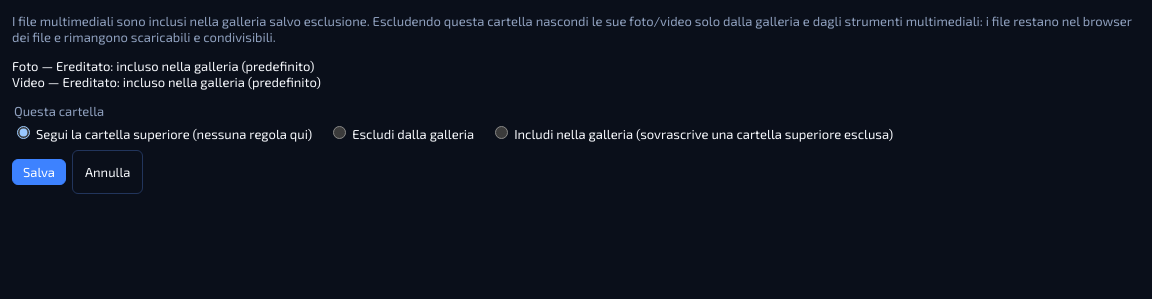
GallerySettingsPanel › refuses a rule that applies to nothing
Click the radio button labelled "Escludi dalla galleria": coordinates (340, 132) [333,126,346,139]
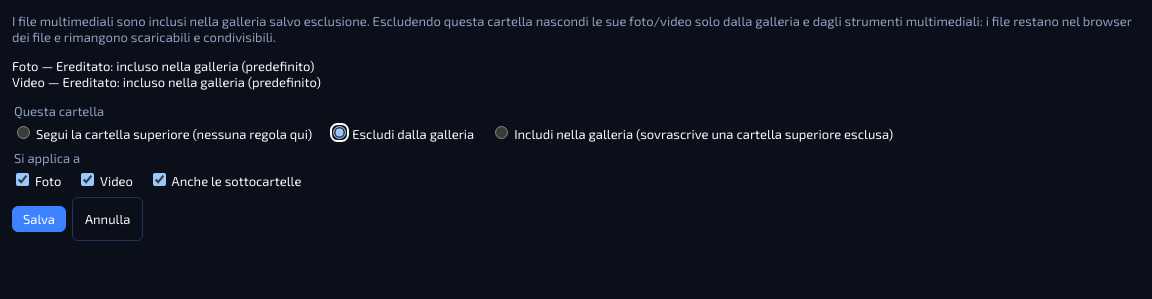
Click the checkbox labelled "Foto": coordinates (22, 180) [16,173,29,186]
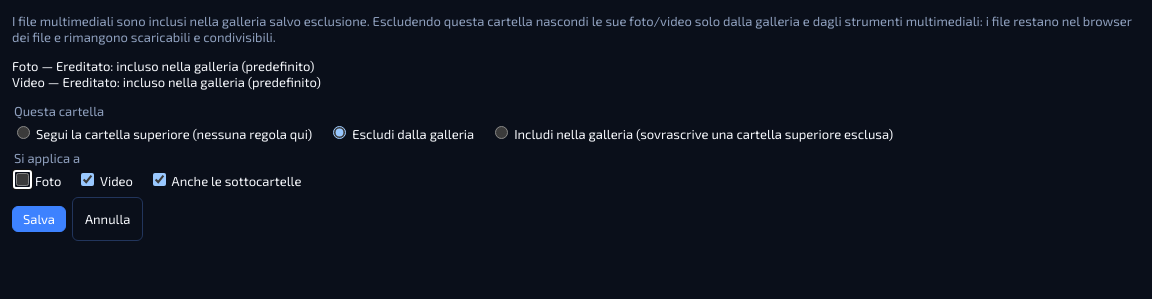
Click the checkbox labelled "Video": coordinates (88, 180) [81,173,94,186]
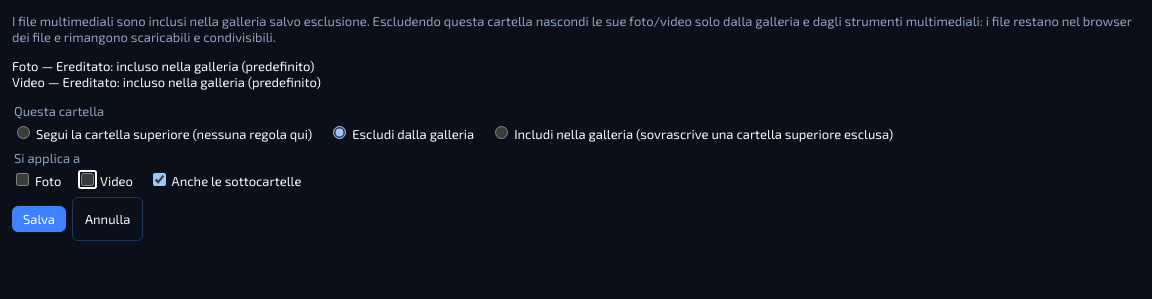
Click the button "Salva": coordinates (39, 219) [12,206,66,232]
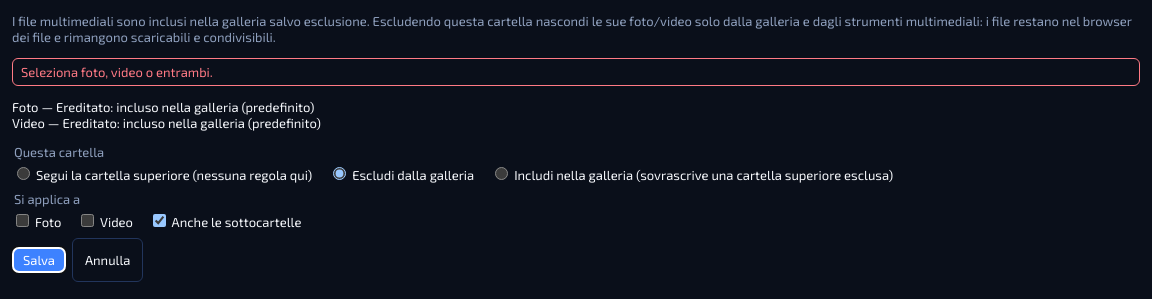
Expected: the text "Seleziona foto, video o entrambi." is shown, [12,58,1140,86]
